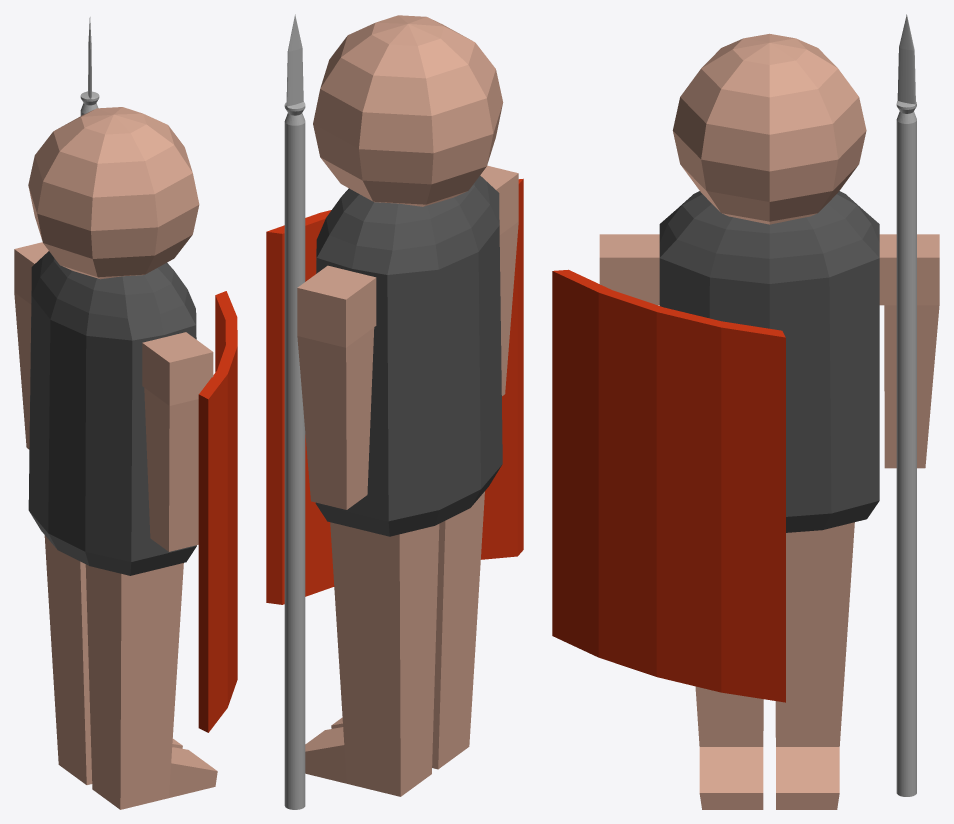
Rendered from soldier.glb.
3 renders of one model, left to right at view 1: azimuth 30°, elevation 25°; view 2: azimuth 150°, elevation 25°; view 3: azimuth 270°, elevation 25°, orthographic. The views are drawn at different scales.
Visible parts, largest first — view 1: Cylinder; view 2: Cylinder; view 3: Cylinder.
Part boxes in pixels (x1,y1,x2,y2): Cylinder: (14, 17, 237, 809); Cylinder: (266, 14, 523, 809); Cylinder: (552, 14, 939, 809).
Bounding box in the file's own units: 0.2917 × 1.01 × 0.4543.
